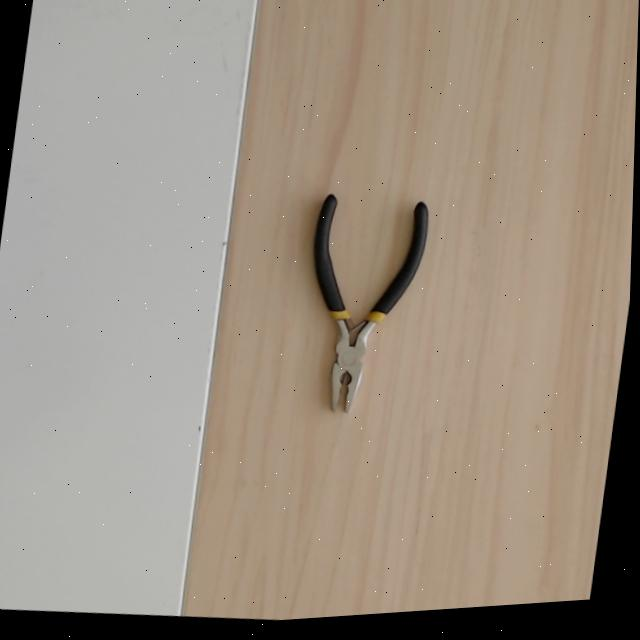Tang-Jepit-Hitam: (299, 191, 429, 418)
